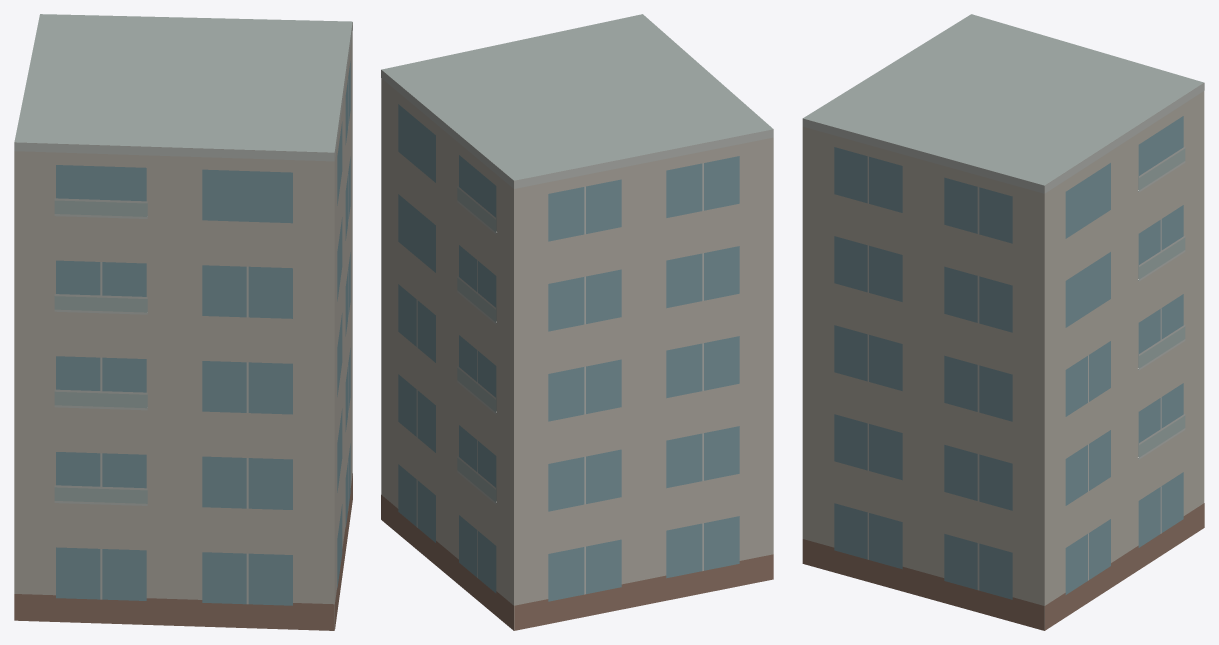
File: survey-upis-32736476.glb
3 views of the same model, side by side, from view 1: azimuth 30°, elevation 25°; view 2: azimuth 150°, elevation 25°; view 3: azimuth 270°, elevation 25° (orthographic). The views are drawn at different scales.
Visible parts, largest first — view 1: survey-upis-32736476.tmp; view 2: survey-upis-32736476.tmp; view 3: survey-upis-32736476.tmp.
Boxes of the visible parts, x1,y1,x2,y2 form: survey-upis-32736476.tmp: (14,14,352,630); survey-upis-32736476.tmp: (381,14,773,630); survey-upis-32736476.tmp: (802,14,1204,630).
Bounding box in the file's own units: 11 × 13.3 × 10.88.
